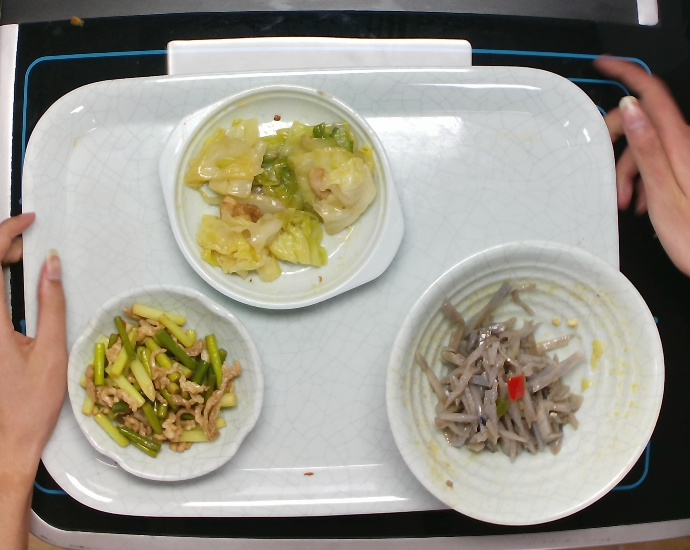JYsf-Ao_Yuan_Wan: (67, 276, 268, 483)
JYsf-Shuang_Er_Pan: (151, 81, 406, 315)
JYsf-Xiao_Tang_Wan: (382, 235, 671, 532)
